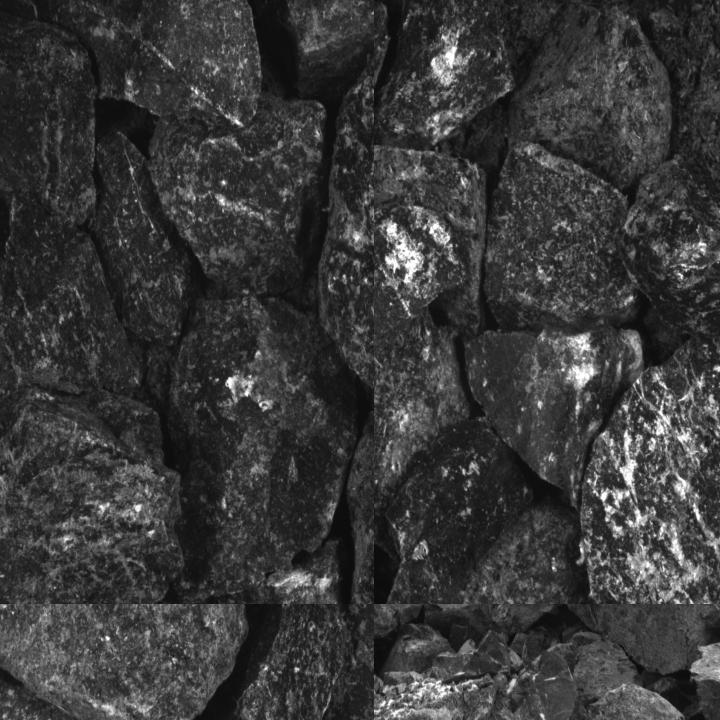stone: (167, 298, 358, 603), (0, 347, 181, 603), (574, 324, 719, 603), (149, 96, 327, 296), (462, 318, 645, 506), (500, 0, 676, 186), (30, 0, 261, 133), (0, 604, 249, 719), (486, 139, 637, 325), (387, 416, 534, 603), (0, 207, 144, 397), (316, 19, 373, 451), (89, 130, 198, 345), (374, 317, 472, 555), (380, 500, 601, 603), (0, 0, 101, 223), (374, 146, 488, 337), (374, 0, 515, 149), (619, 154, 719, 332), (228, 604, 368, 719), (374, 202, 469, 355), (0, 655, 208, 719), (255, 0, 373, 101), (555, 604, 719, 675), (187, 542, 363, 603), (515, 645, 585, 719), (571, 686, 701, 719), (423, 604, 502, 650), (492, 604, 560, 636)
